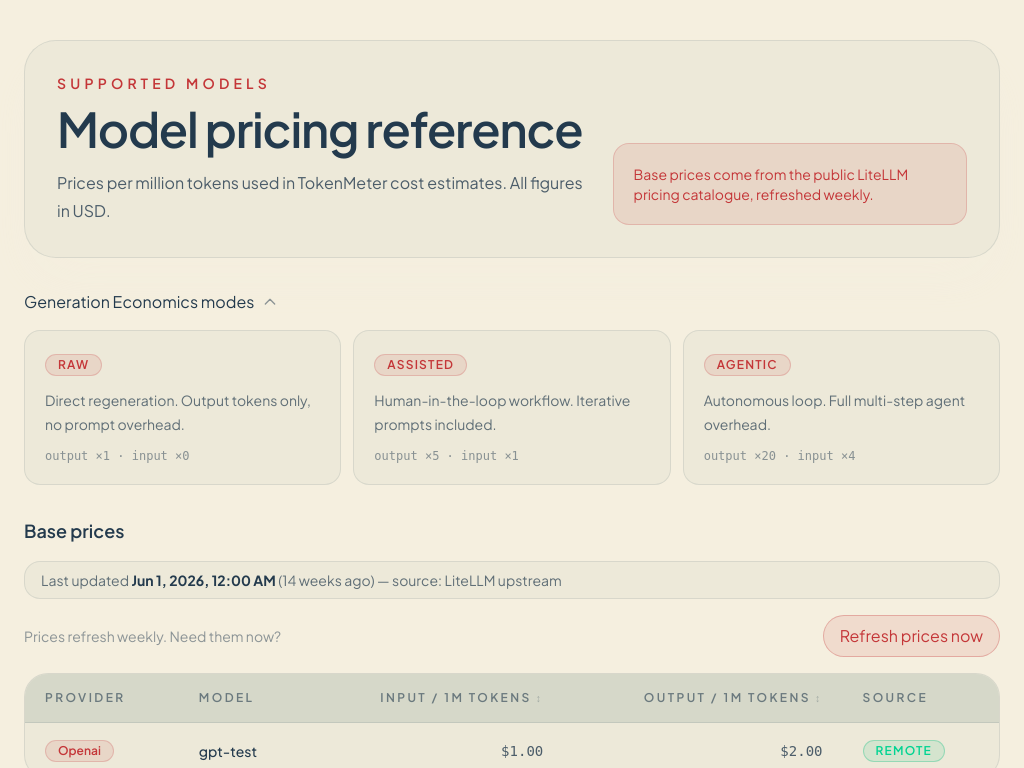
ModelsPage — on-demand pricing refresh (TKM-62) › shows an error and keeps the table when the refresh fails
Click the button "Refresh prices now": (911, 636) x1=823 y1=615 x2=1000 y2=657
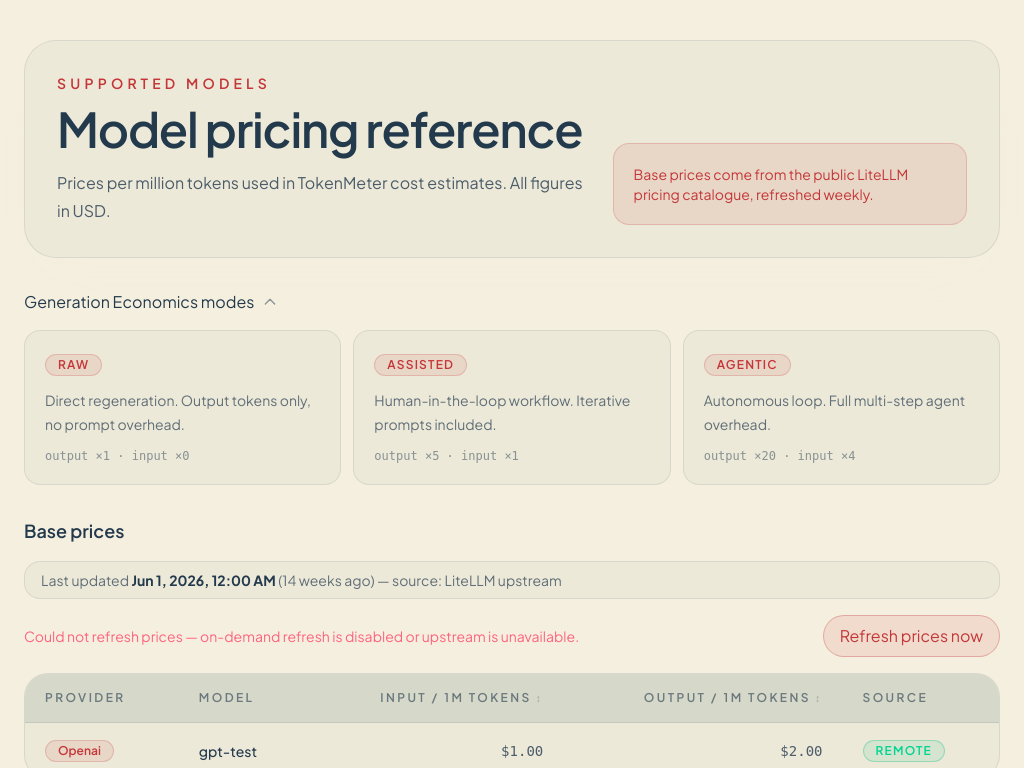
Expected: the text "Could not refresh prices" is shown, x1=24 y1=627 x2=579 y2=645
